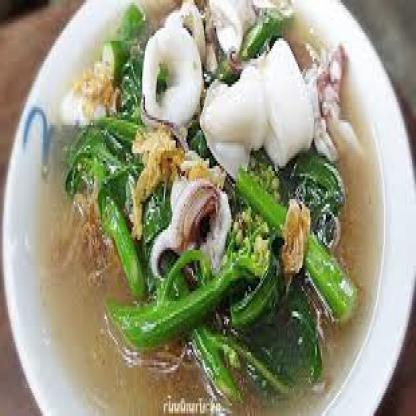Laadna: (11, 8, 385, 414)
